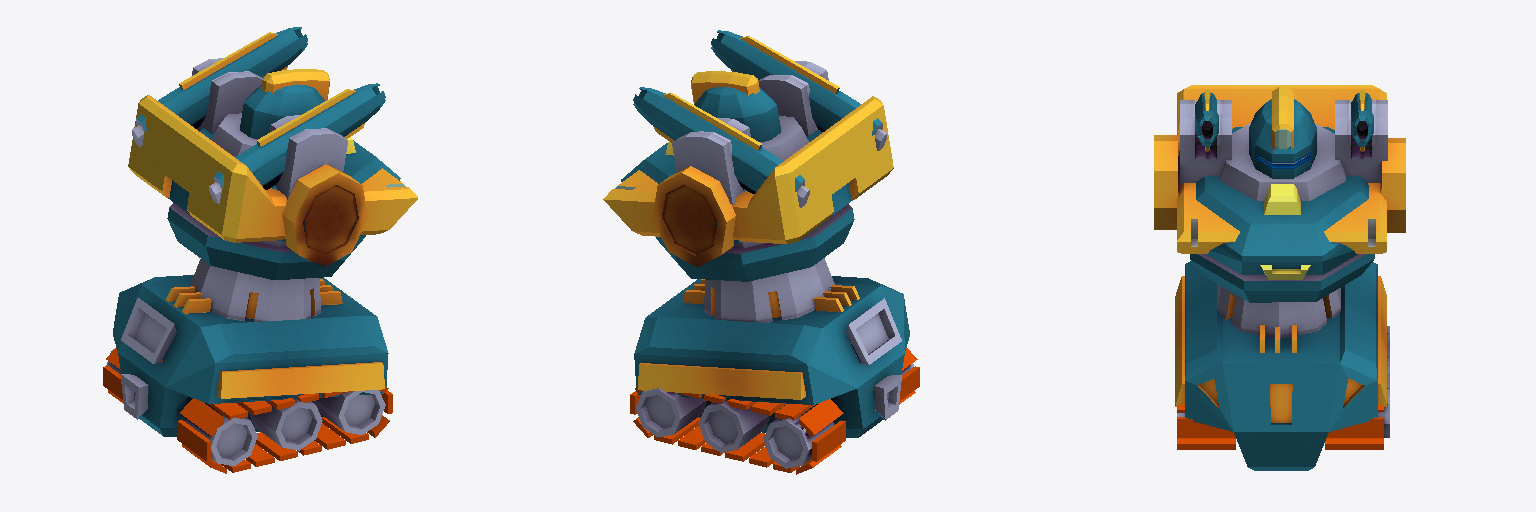
The picture shows the model from 3 angles: view 1: azimuth 30°, elevation 25°; view 2: azimuth 150°, elevation 25°; view 3: azimuth 270°, elevation 25°; orthographic projection.
Visible parts, largest first — view 1: Object004, Object014, Box009, Box017, Box016; view 2: Object004, Object014, Box009, Box016, Box017; view 3: Object004, Object014, Box017, Box016.
Part boxes in pixels (x1,y1,x2,y2): Object004: (113,58,417,436); Object014: (132,27,385,204); Box009: (106,349,385,465); Box017: (177,386,392,473); Box016: (103,348,162,403); Object004: (603,61,909,437); Object014: (633,30,886,207); Box009: (636,363,913,468); Box016: (630,387,845,474); Box017: (899,348,919,404); Object004: (1154,85,1405,470); Object014: (1195,90,1373,151); Box017: (1177,405,1235,449); Box016: (1325,405,1383,449).
Bounding box in the file's own units: 60.24 × 82.24 × 52.49.
2 materials, 1 textured.